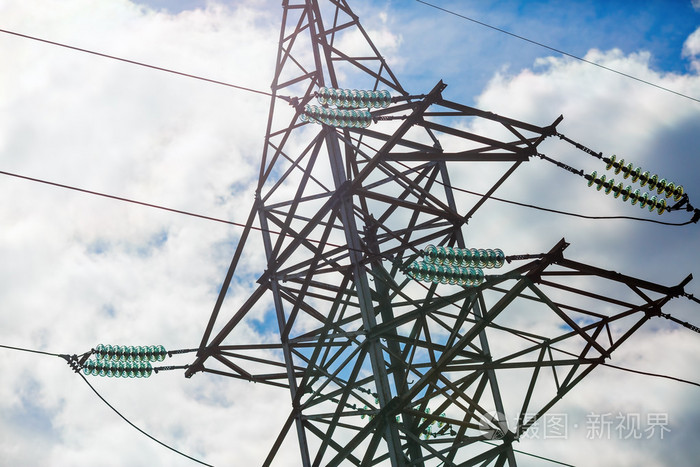insulator: (586, 155, 685, 215), (409, 245, 506, 287), (296, 89, 397, 126), (84, 346, 163, 378)
